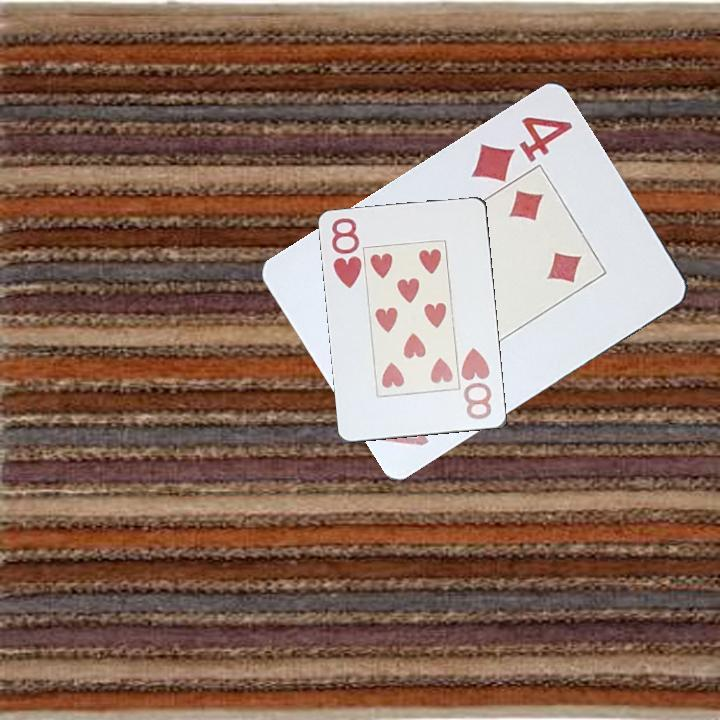4d: (467, 112, 576, 184)
8h: (328, 215, 365, 292), (459, 345, 495, 423)
